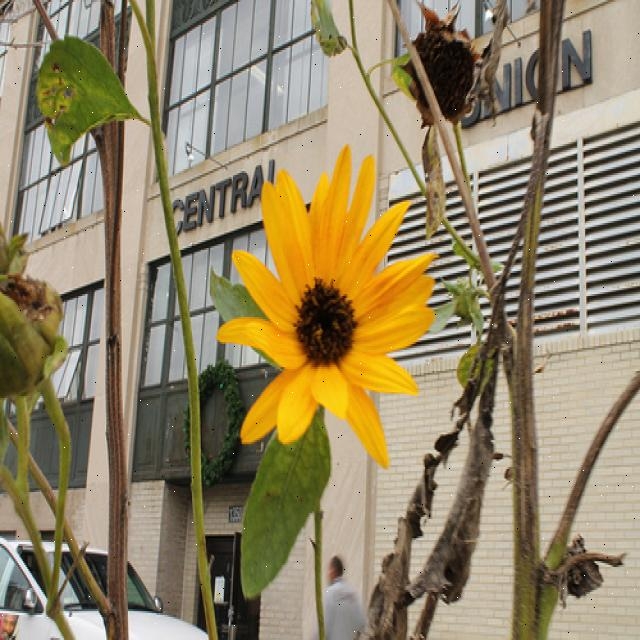Bloomed: (214, 142, 438, 469)
